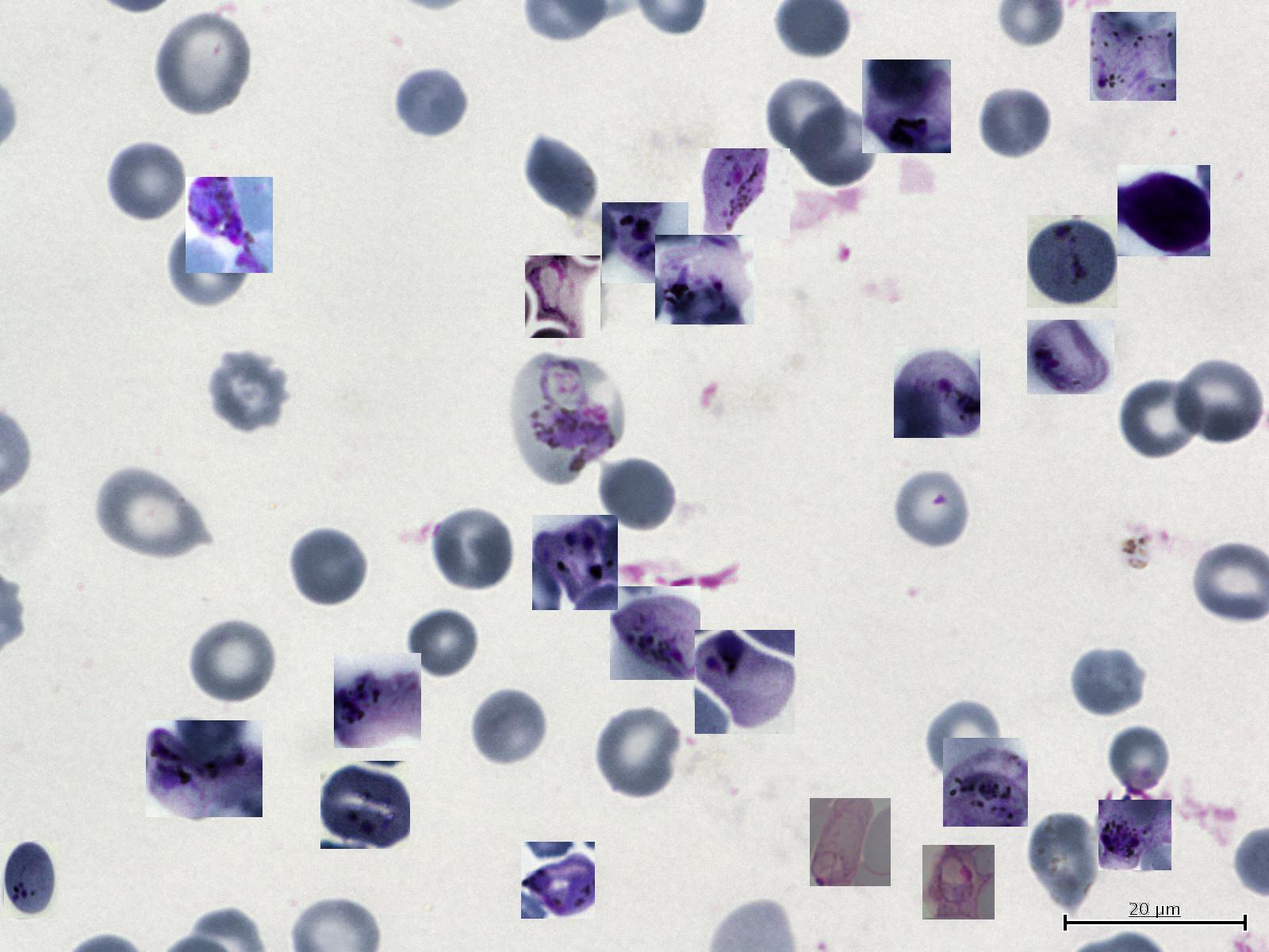Infected: (509, 352, 623, 484), (146, 720, 263, 817), (695, 630, 795, 734), (655, 236, 754, 325), (1027, 215, 1118, 308), (610, 586, 700, 680), (1118, 165, 1210, 256), (186, 177, 273, 273), (862, 60, 951, 153), (334, 653, 421, 748), (701, 148, 791, 239), (532, 515, 618, 610), (320, 761, 410, 849), (894, 347, 980, 438), (1090, 12, 1176, 101), (943, 738, 1028, 827), (810, 798, 891, 886), (602, 202, 688, 283), (1027, 320, 1114, 394), (525, 255, 600, 338), (521, 842, 595, 919), (922, 845, 995, 919), (1098, 800, 1171, 870), (4, 842, 58, 918)
Uninfected: (93, 465, 205, 562), (155, 10, 252, 119), (1172, 355, 1265, 448), (593, 704, 683, 800), (1116, 374, 1210, 463), (187, 616, 278, 704), (792, 101, 881, 189), (428, 505, 515, 593), (923, 697, 1006, 789), (167, 222, 250, 311), (205, 349, 289, 436), (523, 134, 603, 222), (105, 140, 188, 223), (288, 526, 370, 608), (892, 467, 972, 551), (1032, 813, 1102, 908), (763, 80, 848, 157), (470, 686, 548, 769), (596, 456, 677, 534), (975, 83, 1052, 162), (1068, 644, 1147, 720), (391, 63, 468, 139), (403, 604, 479, 681), (1108, 722, 1173, 793)
